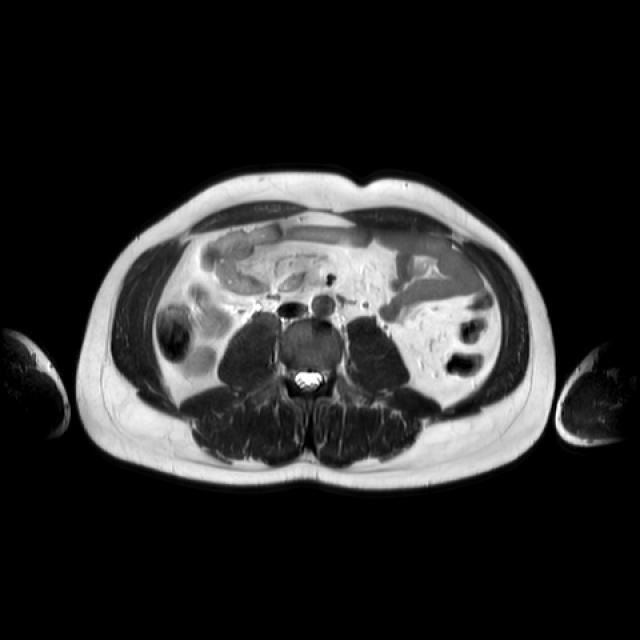sag: (179, 303, 233, 378)
